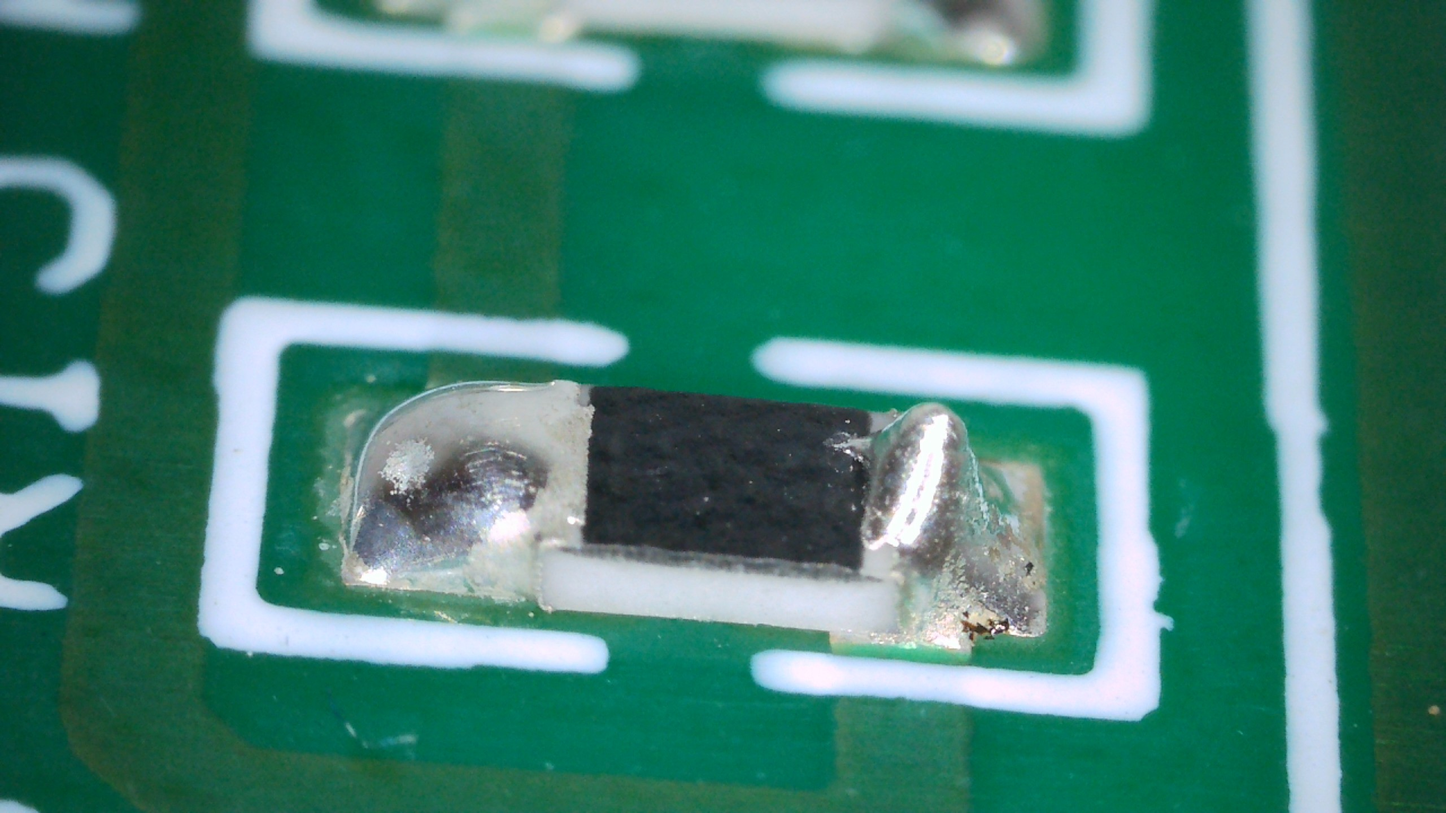NG: (341, 381, 590, 602), (836, 407, 1038, 652)
